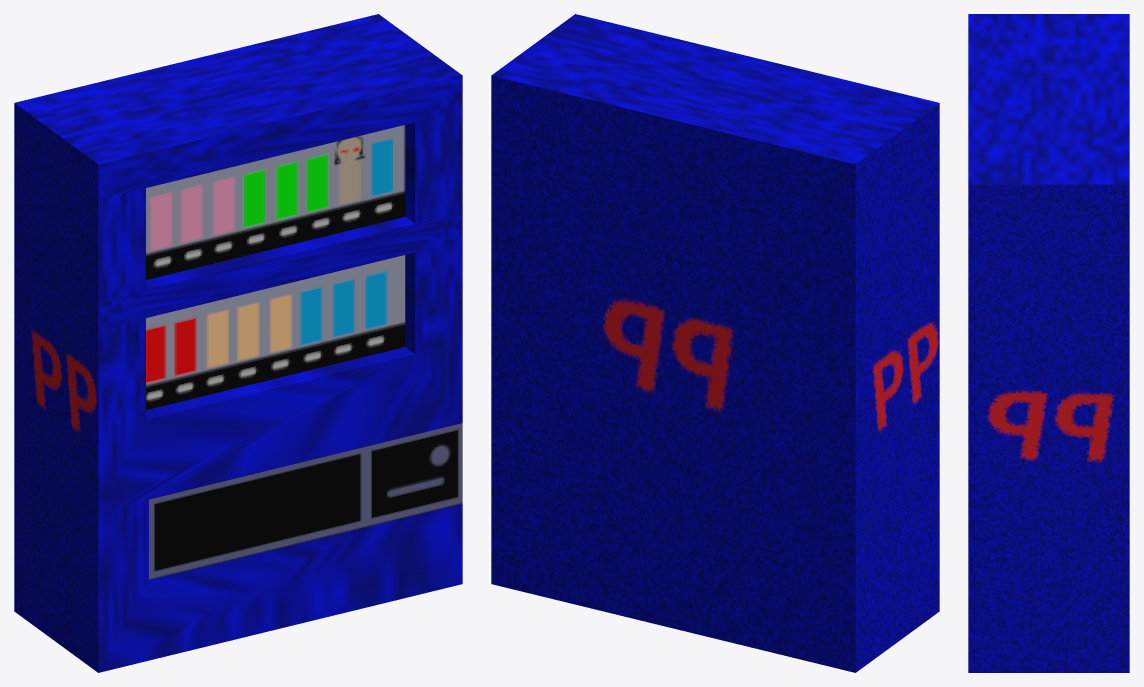
The model's file is vendingmachine.FBX.
3 renders of one model, left to right at view 1: azimuth 30°, elevation 25°; view 2: azimuth 150°, elevation 25°; view 3: azimuth 270°, elevation 25°, orthographic. The views are drawn at different scales.
Visible parts, largest first — view 1: Box001; view 2: Box001; view 3: Box001.
Part boxes in pixels (left/top/right/bottom): Box001: left=14, top=14, right=462, bottom=672; Box001: left=491, top=14, right=939, bottom=672; Box001: left=968, top=14, right=1129, bottom=672.
Bounding box in the file's own units: 15 × 20 × 6.
Materials: 1 (1 with a texture image).
